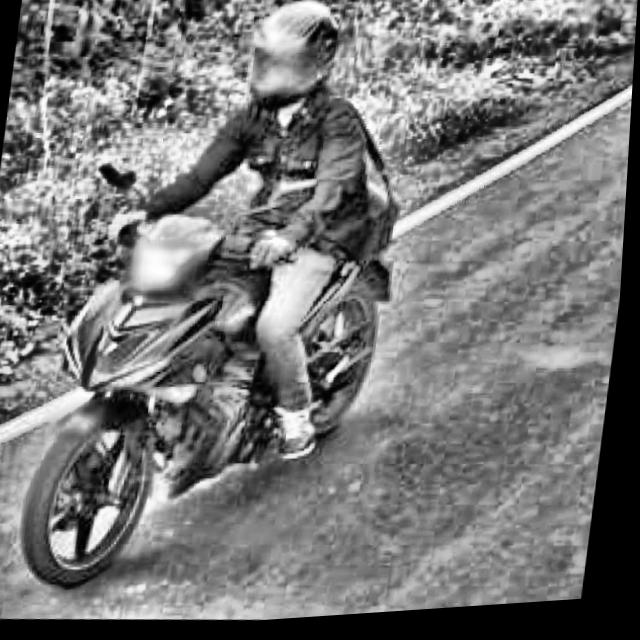motorcycle: (12, 123, 442, 620)
